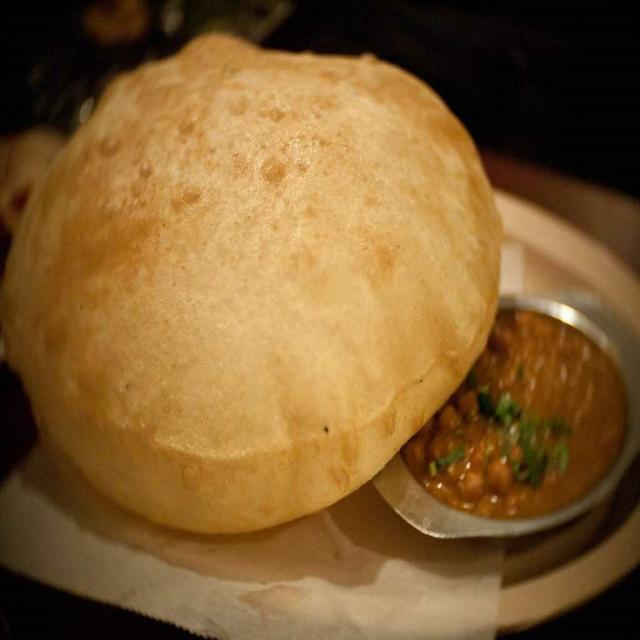Bhatura: (1, 31, 502, 535)
Chole: (403, 293, 626, 515)
